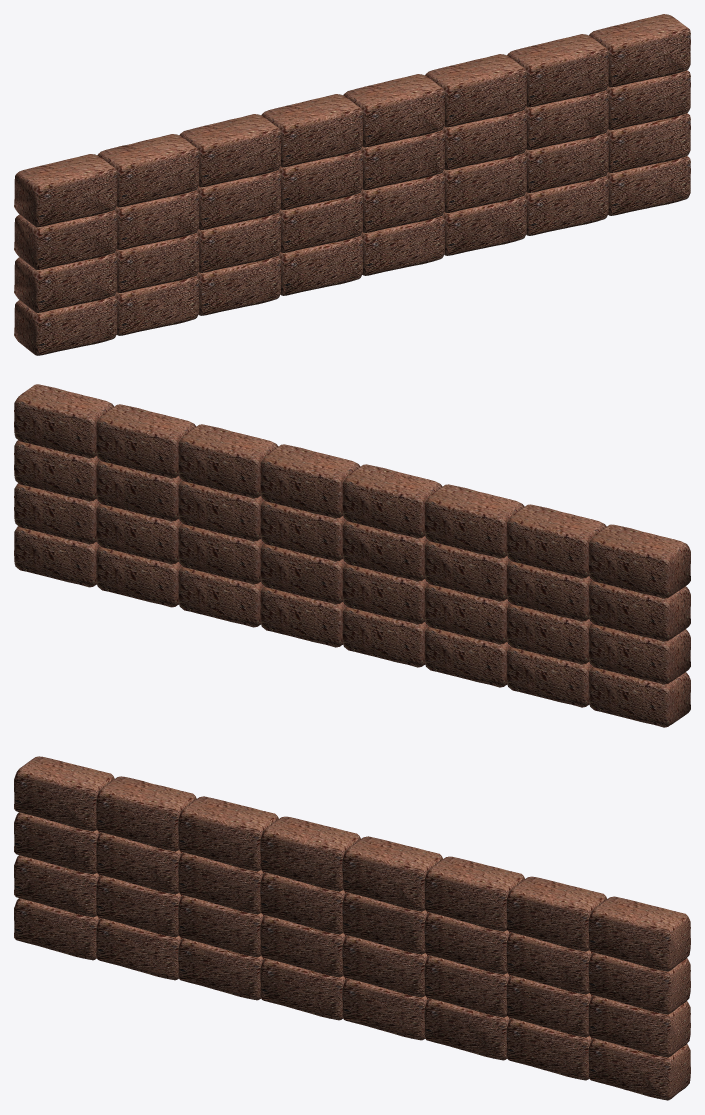
File: Wall.fbx
The picture shows the model from 3 angles, top to bottom: view 1: azimuth 30°, elevation 25°; view 2: azimuth 150°, elevation 25°; view 3: azimuth 330°, elevation 25°; orthographic projection.
Visible parts, largest first — view 1: Cube.029; view 2: Cube.029; view 3: Cube.029.
Part boxes in pixels (x1,y1,x2,y2): Cube.029: (14, 14, 690, 355); Cube.029: (14, 384, 690, 727); Cube.029: (14, 756, 690, 1100).
Bounding box in the file's own units: 8 × 2 × 0.5006.
1 material, 1 textured.
